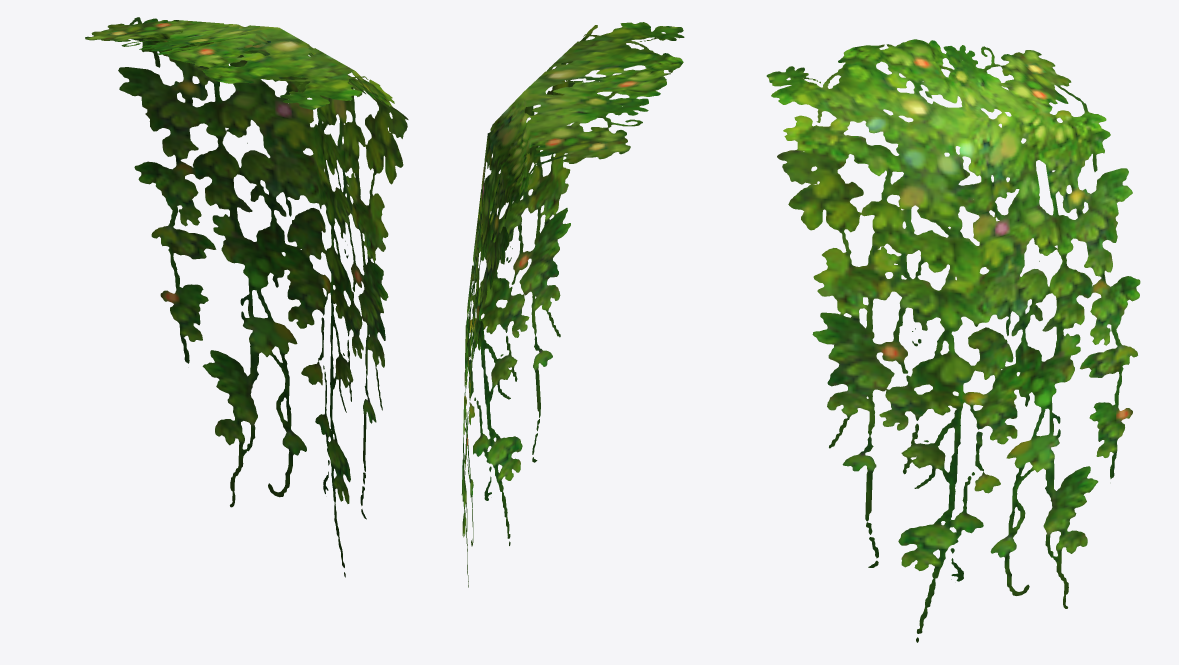
File: zhi_wu_003.FBX
3 views of the same model, side by side, from view 1: azimuth 30°, elevation 25°; view 2: azimuth 150°, elevation 25°; view 3: azimuth 270°, elevation 25° (orthographic). The views are drawn at different scales.
Visible parts, largest first — view 1: zhi_wu_003; view 2: zhi_wu_003; view 3: zhi_wu_003.
Boxes of the visible parts, box(x1,y1,x2,y2) form: zhi_wu_003: box(85, 17, 408, 577); zhi_wu_003: box(461, 22, 684, 587); zhi_wu_003: box(766, 39, 1140, 642).
Size of the model in its own units: 243 by 474 by 333.
Materials: 1 (1 with a texture image).
